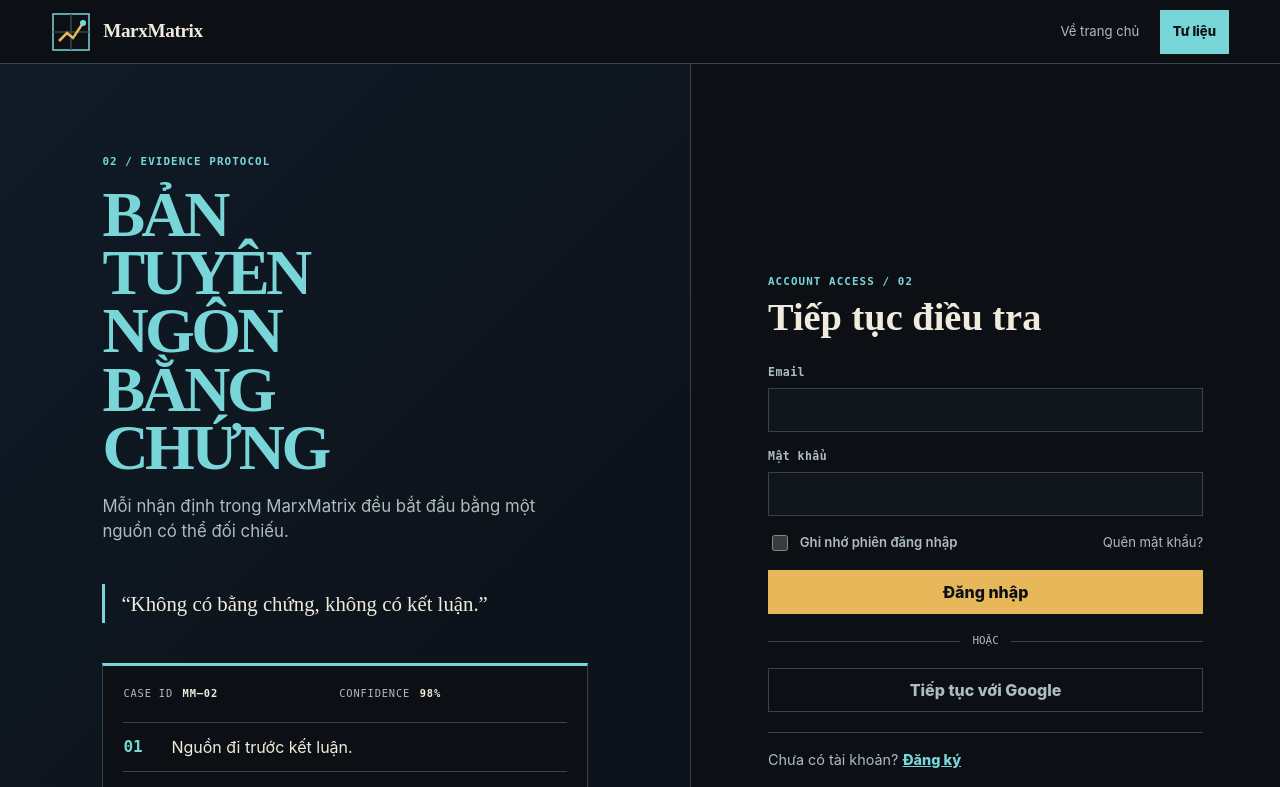
Test case: auth pages › marks the sign-in form busy while the request is pending
Step 1. Type "student@example.test" into the field labelled "Email" → (986, 410), box [768,388,1203,432]
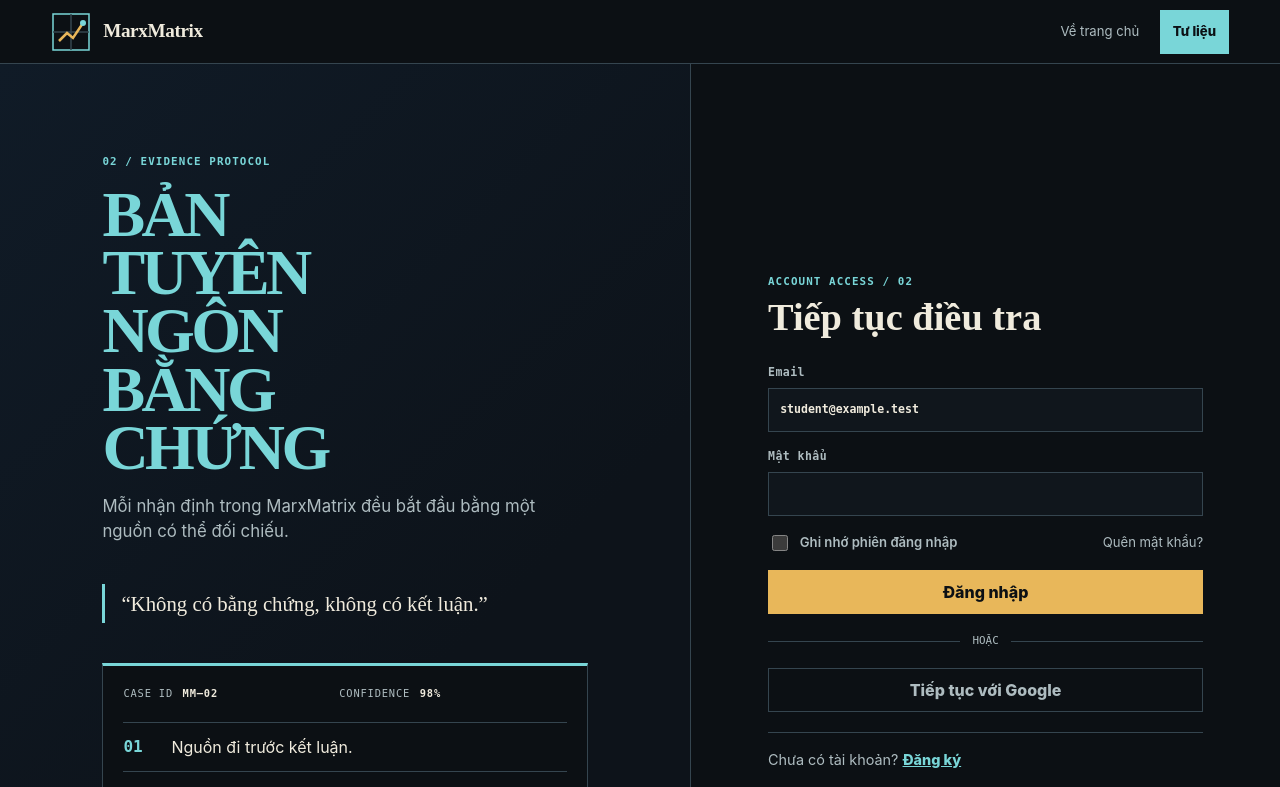
Step 2. Type "correct horse battery staple" into the password field labelled "Mật khẩu" → (986, 494), box [768,472,1203,516]
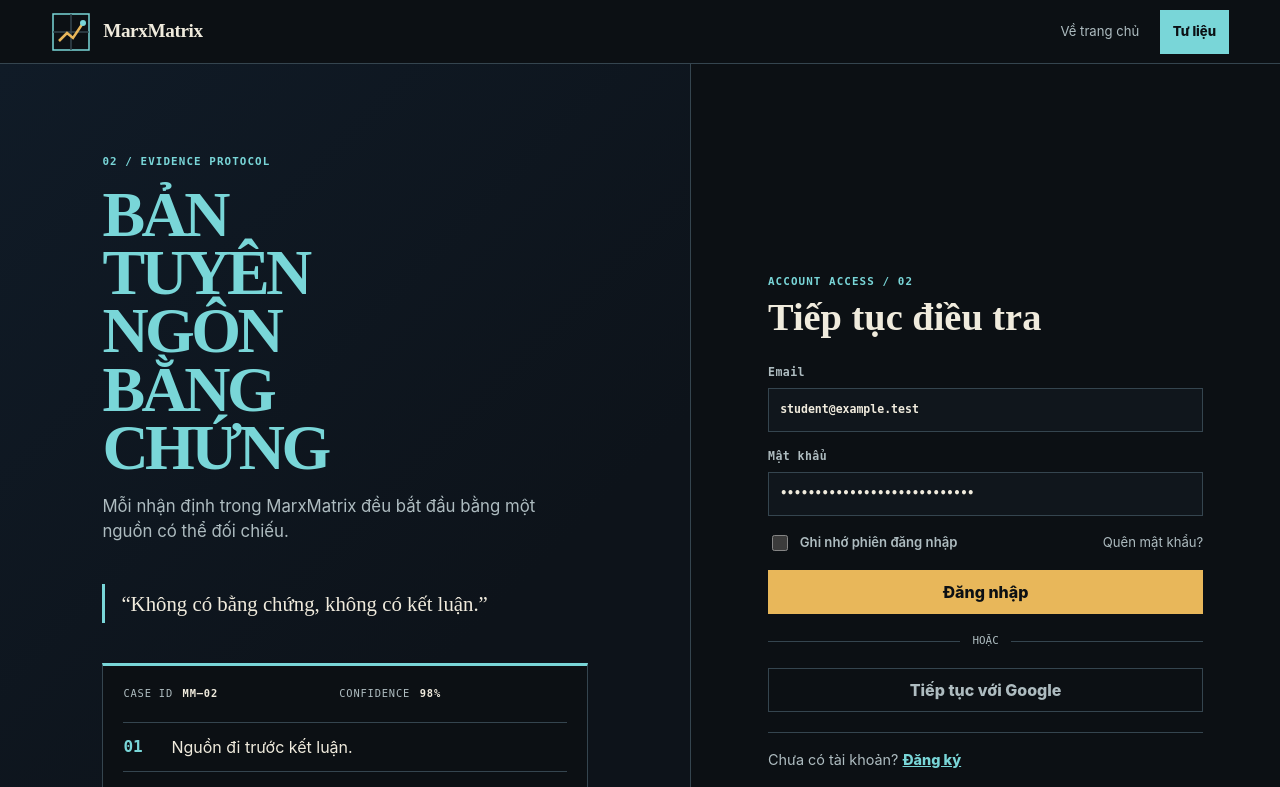
Step 3. Click the button "Đăng nhập" → click(986, 592), box [768,570,1203,614]
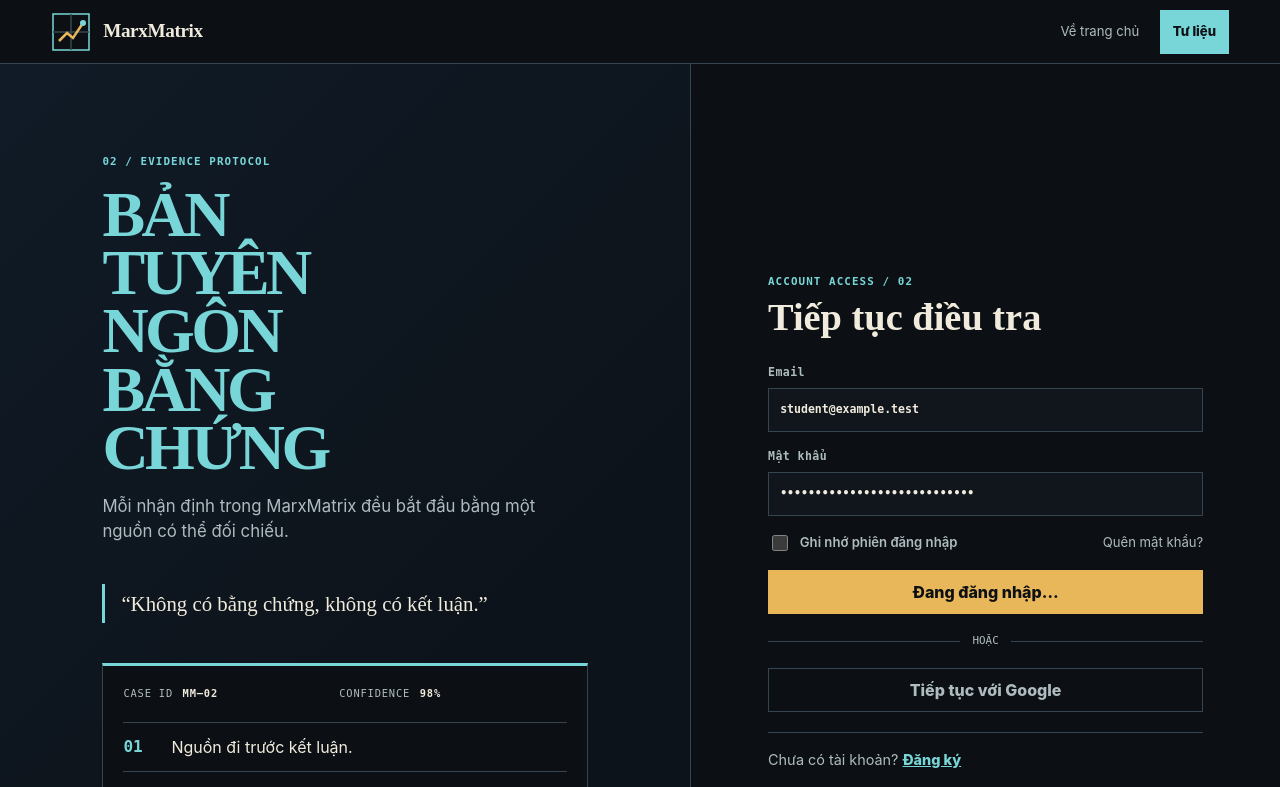
Check: the button "Đang đăng nhập…" is disabled, box [768,570,1203,614]
